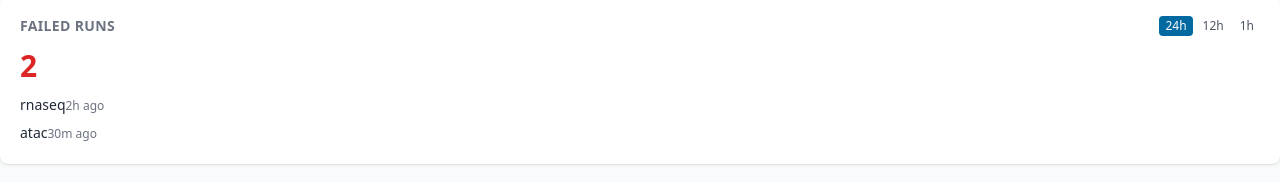
Test case: the 1h window filters out older failures
Expected: the text "rnaseq" is shown, [20, 95, 66, 114]
What coordinates should you click on to do the following:
click the button with test id "failed-window-1h"
I would click on:
 (1247, 26)
Its box is [1234, 16, 1260, 36].
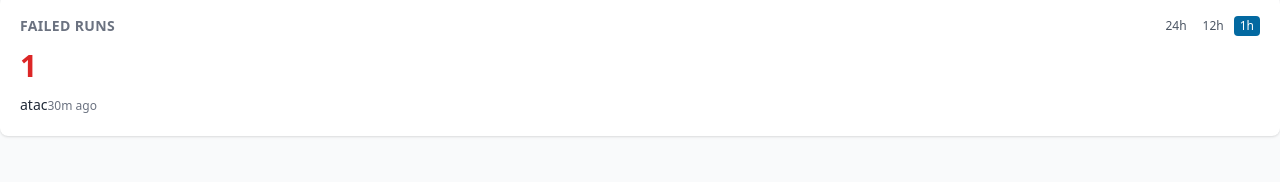
Expected: the text "atac" is shown, [20, 95, 48, 114]
Now the link "rnaseq" is gone
